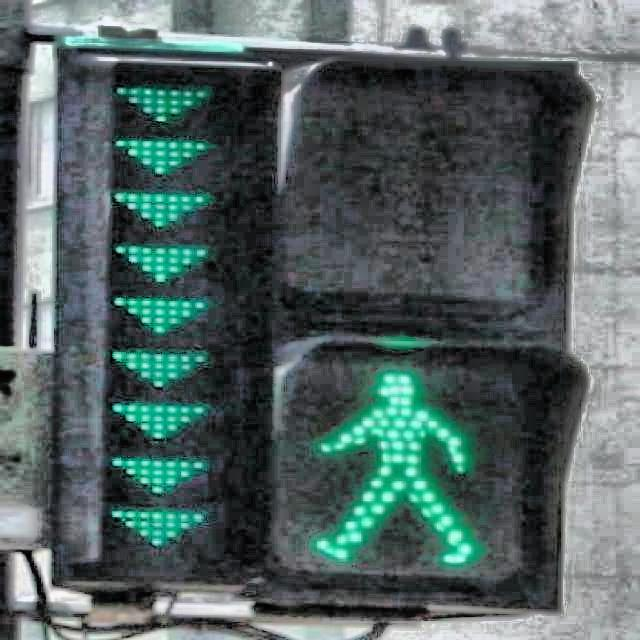semaforo pedestre: (64, 26, 598, 626)
